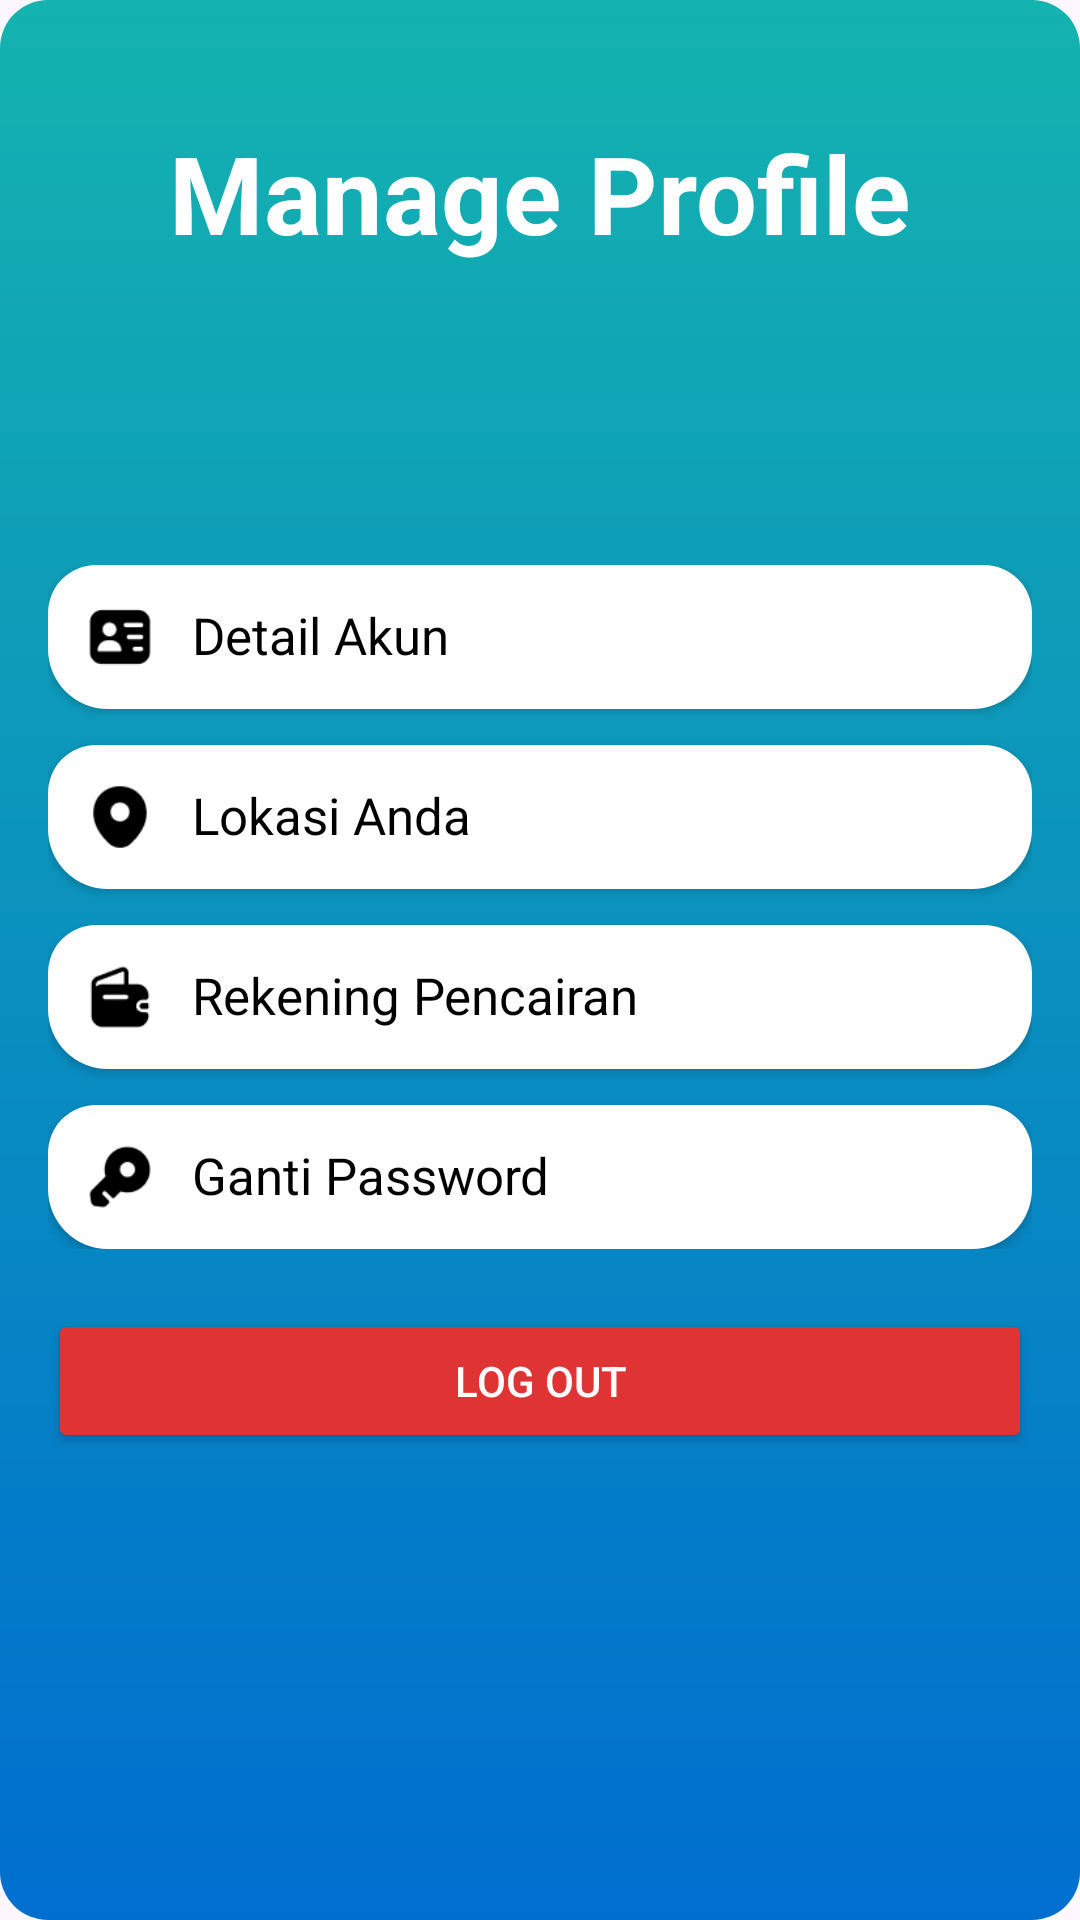

Where to tap for icons on this 1080×1920 app screen, as (x,y):
idcard: (120,637)
key: (120,1177)
locmap: (120,817)
wallet: (120,997)
